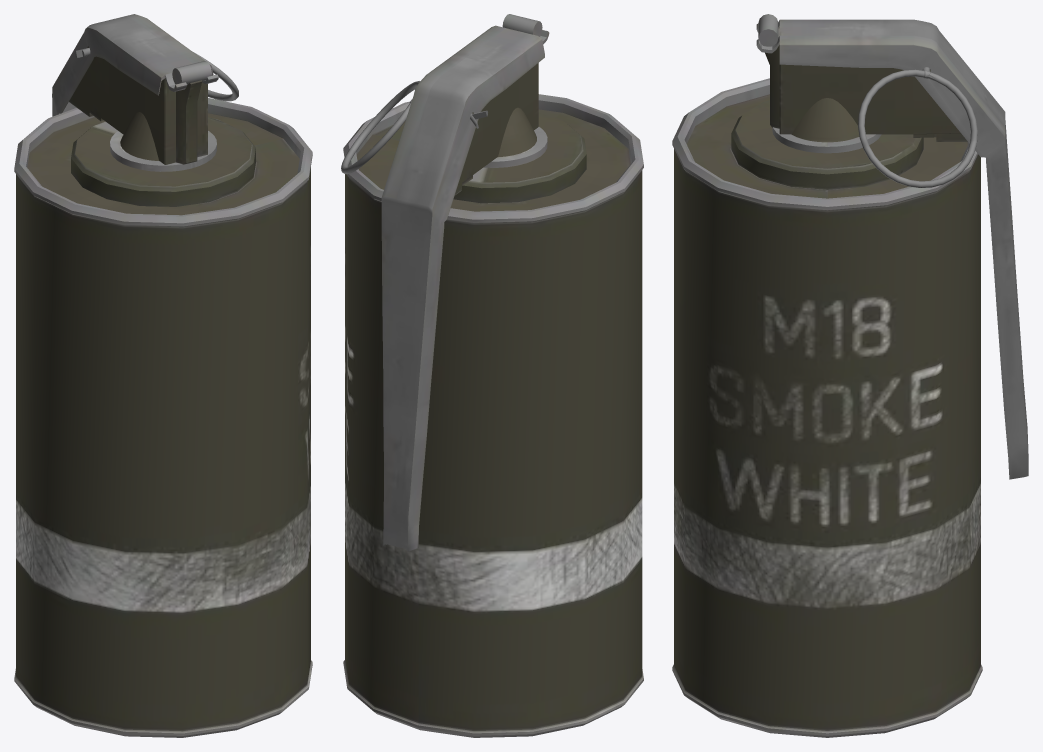
File: smokeg_hi.glb
The picture shows the model from 3 angles, left to right: view 1: azimuth 30°, elevation 25°; view 2: azimuth 150°, elevation 25°; view 3: azimuth 270°, elevation 25°; orthographic projection. The views are drawn at different scales.
Visible parts, largest first — view 1: SmokeGrenade, Pin; view 2: SmokeGrenade, Pin; view 3: SmokeGrenade, Pin.
Boxes of the visible parts, <box> form: SmokeGrenade: <box>14,14,312,737</box>; Pin: <box>74,48,238,101</box>; SmokeGrenade: <box>343,14,643,737</box>; Pin: <box>341,81,487,174</box>; SmokeGrenade: <box>672,14,1028,737</box>; Pin: <box>858,67,977,187</box>.
Size of the model in its own units: 0.0653 by 0.1513 by 0.0749.
1 material, 1 textured.
